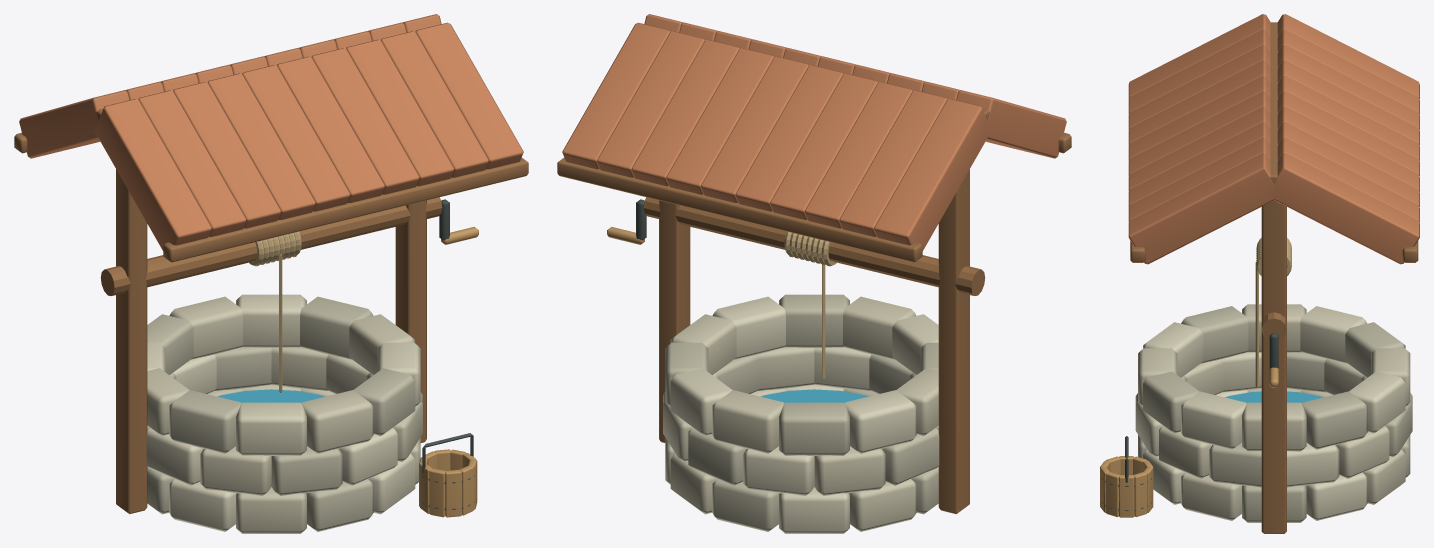
Rendered from farm_art_well.glb.
The picture shows the model from 3 angles, left to right: view 1: azimuth 30°, elevation 25°; view 2: azimuth 150°, elevation 25°; view 3: azimuth 270°, elevation 25°; orthographic projection. The views are drawn at different scales.
Visible parts, largest first — view 1: Roof support, Separate roof plank, Roof edge, Separate roof plank.009, Separate roof plank.006, Separate roof plank.001, Separate roof plank.005, Separate roof plank.007, Separate roof plank.002, Separate roof plank.004, Separate roof plank.003, Separate roof plank.008 (+31 smaller); view 2: Roof support, Separate roof plank.010, Roof edge.001, Separate roof plank.019, Separate roof plank.016, Separate roof plank.011, Separate roof plank.015, Separate roof plank.017, Separate roof plank.012, Separate roof plank.014, Separate roof plank.013, Separate roof plank.018 (+29 smaller); view 3: Roof support.001, Separate roof plank.009, Separate roof plank.019, Individual stone block.025, Individual stone block.035, Individual stone block.031, Individual stone block.029, Separate roof plank.006, Separate roof plank.012, Separate roof plank.013, Separate roof plank.005, Separate roof plank.007 (+43 smaller).
Boxes of the visible parts, left/top/right/bottom form: Roof support: left=116, top=169, right=147, bottom=514; Separate roof plank: left=94, top=99, right=211, bottom=250; Roof edge: left=163, top=157, right=528, bottom=262; Separate roof plank.009: left=415, top=22, right=523, bottom=169; Separate roof plank.006: left=311, top=48, right=419, bottom=194; Separate roof plank.001: left=138, top=90, right=246, bottom=236; Separate roof plank.005: left=277, top=56, right=384, bottom=202; Separate roof plank.007: left=346, top=39, right=454, bottom=186; Separate roof plank.002: left=173, top=82, right=280, bottom=228; Separate roof plank.004: left=242, top=65, right=350, bottom=211; Separate roof plank.003: left=207, top=73, right=315, bottom=219; Separate roof plank.008: left=381, top=31, right=488, bottom=177; Roof support: left=938, top=169, right=969, bottom=514; Separate roof plank.010: left=874, top=99, right=988, bottom=250; Roof edge.001: left=557, top=157, right=922, bottom=262; Separate roof plank.019: left=562, top=22, right=670, bottom=169; Separate roof plank.016: left=666, top=48, right=774, bottom=194; Separate roof plank.011: left=839, top=90, right=947, bottom=236; Separate roof plank.015: left=701, top=56, right=808, bottom=202; Separate roof plank.017: left=631, top=39, right=739, bottom=186; Separate roof plank.012: left=805, top=82, right=912, bottom=228; Separate roof plank.014: left=735, top=65, right=843, bottom=211; Separate roof plank.013: left=770, top=73, right=878, bottom=219; Separate roof plank.018: left=597, top=31, right=704, bottom=177; Roof support.001: left=1261, top=200, right=1286, bottom=533; Separate roof plank.009: left=1128, top=153, right=1279, bottom=264; Separate roof plank.019: left=1268, top=153, right=1419, bottom=264; Individual stone block.025: left=1302, top=391, right=1367, bottom=449; Individual stone block.035: left=1181, top=391, right=1246, bottom=449; Individual stone block.031: left=1181, top=306, right=1248, bottom=363; Individual stone block.029: left=1300, top=306, right=1367, bottom=363; Separate roof plank.006: left=1128, top=106, right=1270, bottom=191; Separate roof plank.012: left=1277, top=45, right=1419, bottom=129; Separate roof plank.013: left=1277, top=60, right=1419, bottom=145; Separate roof plank.005: left=1128, top=91, right=1270, bottom=175; Separate roof plank.007: left=1128, top=122, right=1270, bottom=206.
Size of the model in its own units: 2.9 by 2.97 by 2.28.
